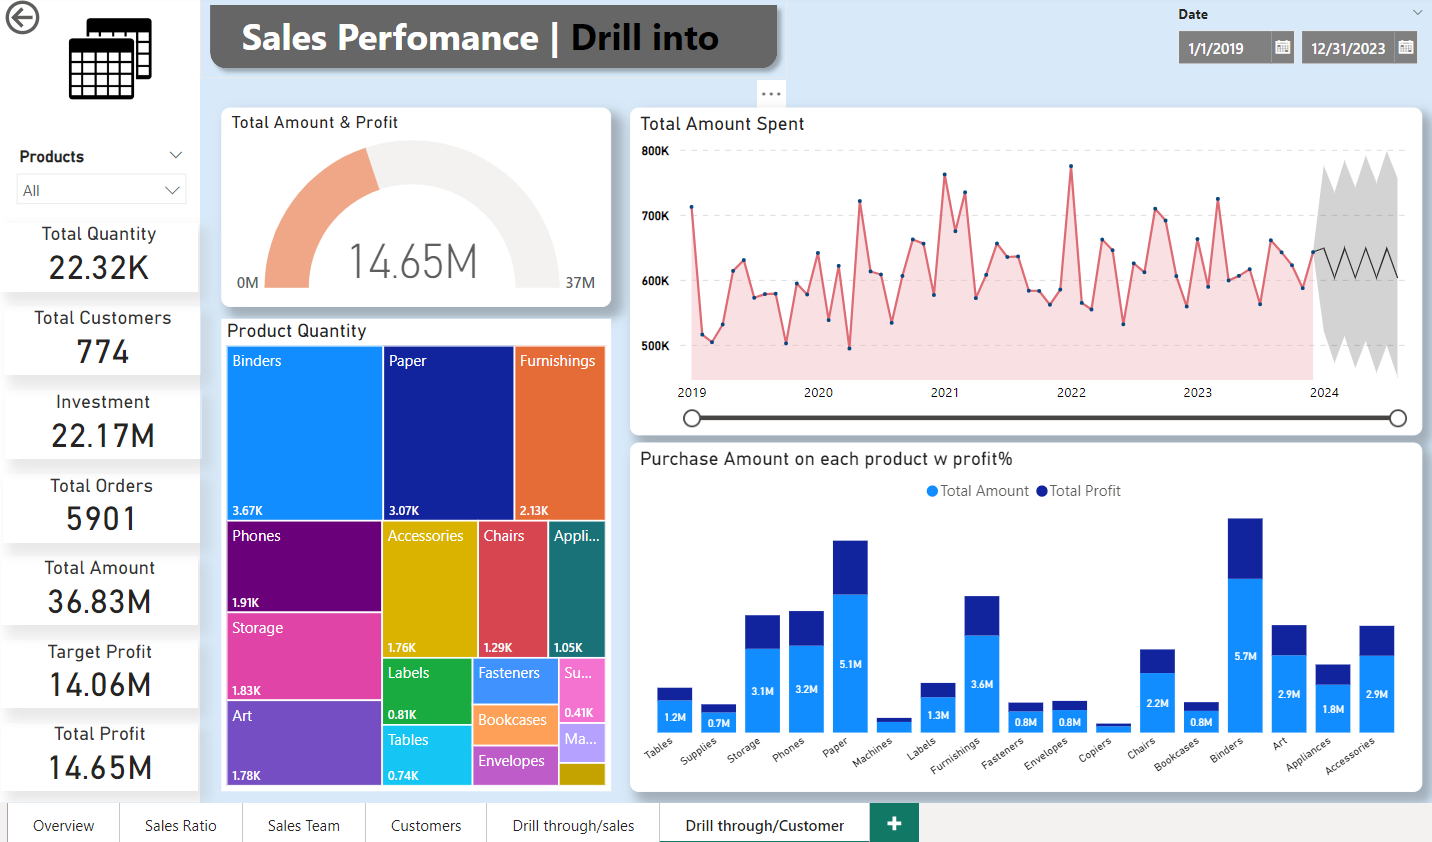

The dashboard page shown, as its layout file describes it:
{"tool":"powerbi","page":{"name":"Drill through/Customer","canvas":[1280,720],"ordinal":5},"visuals":[{"type":"shape","box":[178.1,0,523,74.3],"z":0},{"type":"shape","box":[0,0,178.1,719.4],"z":1000},{"type":"card","title":"Total Orders","fields":{"Values":["f-sales data.Total Orders"]},"box":[2.4,425.8,176.1,61.5],"z":2000},{"type":"card","title":"Total Customers","fields":{"Values":["f-sales data.Total Customers"]},"box":[3.6,277.1,176.1,61.5],"z":3000},{"type":"card","title":"Investment","fields":{"Values":["f-sales data.Company Cost"]},"box":[4.8,351.4,174.9,61.5],"z":4000},{"type":"card","title":"Total Amount","fields":{"Values":["f-sales data.Total Amount"]},"box":[1.4,500.2,175.3,61],"z":5000},{"type":"card","title":"Total Profit","fields":{"Values":["f-sales data.Total Proit"]},"box":[1.4,647.9,175.3,61],"z":6000},{"type":"card","title":"Target Profit","fields":{"Values":["Sum(d-target sale.Target Profit)"]},"box":[1.4,574,175.3,61],"z":7000},{"type":"slicer","fields":{"Values":["d-target sale.Products"]},"box":[4.8,130.3,171.3,63.9],"z":8000},{"type":"textbox","box":[209.9,9.7,479,54.3],"z":9000},{"type":"card","title":"Total Quantity","fields":{"Values":["Sum(f-sales data.Quantity)"]},"box":[0,202.7,176.1,61.5],"z":10000},{"type":"actionButton","box":[0,0,100,40],"z":11000},{"type":"slicer","title":"Pick Date","fields":{"Values":["f-sales data.Order Date"]},"box":[1036.3,3.6,243.7,74.8],"z":12000},{"type":"image","box":[49.5,9.7,97.7,94.1],"z":13000},{"type":"gauge","title":"Total Amount & Profit","fields":{"Y":["f-sales data.Total Profit"],"MaxValue":["f-sales data.Total Amount"]},"box":[197,146.9,347.3,170.3],"z":14000},{"type":"lineChart","title":"Total Amount Spent","fields":{"Y":["f-sales data.Total Amount"],"Category":["f-sales data.Order Date.Variation.Date Hierarchy.Year","f-sales data.Order Date.Variation.Date Hierarchy.Month"]},"box":[561,100.1,705.8,292],"z":15000},{"type":"treemap","title":"Product  Quantity","fields":{"Group":["f-sales data.Sub-Category"],"Values":["Sum(f-sales data.Quantity)"]},"box":[197,328.4,347.3,380.7],"z":16000},{"type":"columnChart","title":"Purchase Amount on each product w profit%","fields":{"Category":["f-sales data.Sub-Category"],"Y":["f-sales data.Total Amount","f-sales data.Total Profit"]},"box":[561,398.1,705.8,311.3],"z":17000},{"type":"card","title":"Total Amount & Profit","fields":{"Values":["Min(f-sales data.Customer Name)"]},"box":[197,77.9,347.3,55.7],"z":17001}]}

Visuals, with their boxes on the page's 1280x720 design canvas (x1, y1, x2, y2). These are canvas units, not pixel positions in the 1432x842 screenshot, which may show the page scaled, cropped or inside an application window:
shape: bbox(178, 0, 701, 74)
shape: bbox(0, 0, 178, 719)
"Total Orders" card: bbox(2, 426, 178, 487)
"Total Customers" card: bbox(4, 277, 180, 339)
"Investment" card: bbox(5, 351, 180, 413)
"Total Amount" card: bbox(1, 500, 177, 561)
"Total Profit" card: bbox(1, 648, 177, 709)
"Target Profit" card: bbox(1, 574, 177, 635)
slicer - d-target sale.Products: bbox(5, 130, 176, 194)
textbox: bbox(210, 10, 689, 64)
"Total Quantity" card: bbox(0, 203, 176, 264)
actionButton: bbox(0, 0, 100, 40)
"Pick Date" slicer: bbox(1036, 4, 1280, 78)
image: bbox(50, 10, 147, 104)
"Total Amount & Profit" gauge: bbox(197, 147, 544, 317)
"Total Amount Spent" lineChart: bbox(561, 100, 1267, 392)
"Product  Quantity" treemap: bbox(197, 328, 544, 709)
"Purchase Amount on each product w profit%" columnChart: bbox(561, 398, 1267, 709)
"Total Amount & Profit" card: bbox(197, 78, 544, 134)
